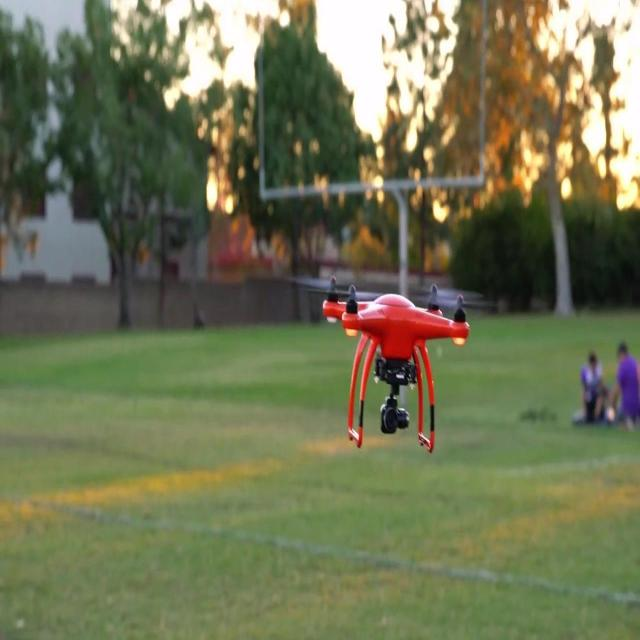drone: (319, 271, 472, 456)
